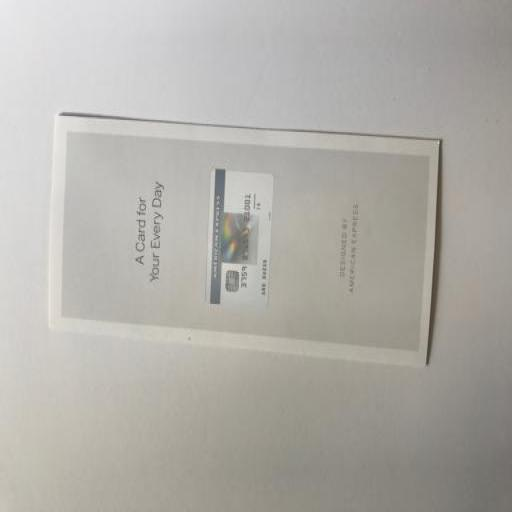paper: (47, 111, 442, 368)
